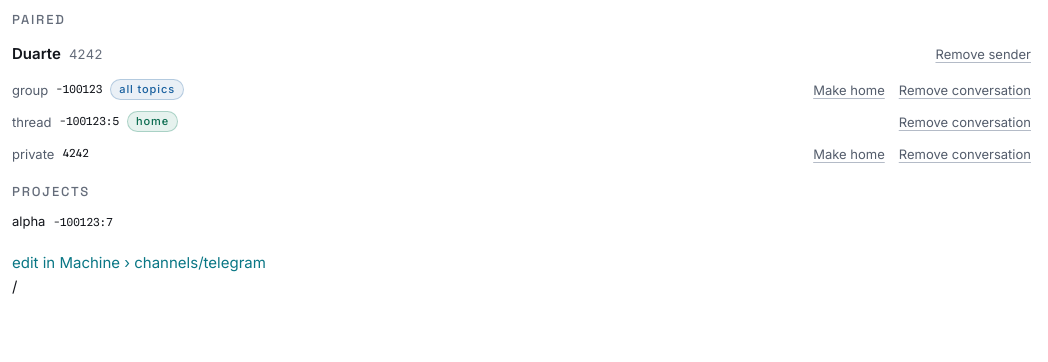
Test: IdentitiesPanel › actions › explains unknown_conversation on Make home
Expected: the text "Duarte" is shown, [12,42,61,65]
Click the button "Make home" in the row of "private". click: (849,154)
box: [808,140,890,168]
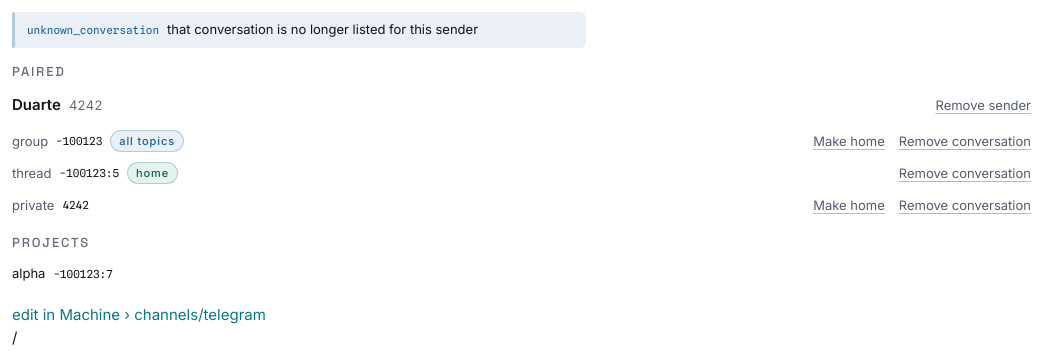
Now the text "that conversation is no longer listed for this sender" is shown, box [167,21,478,38]
